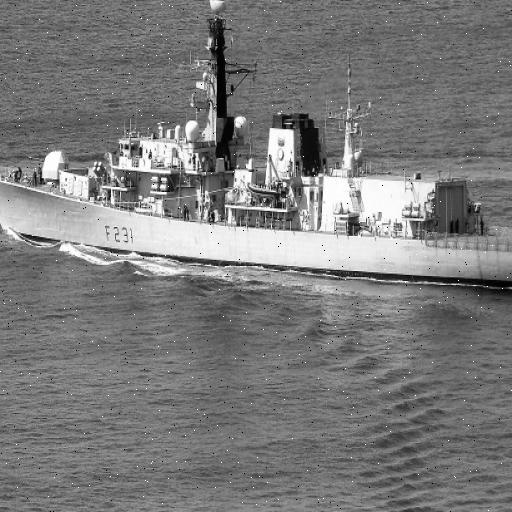Fragata: (1, 1, 512, 295)
